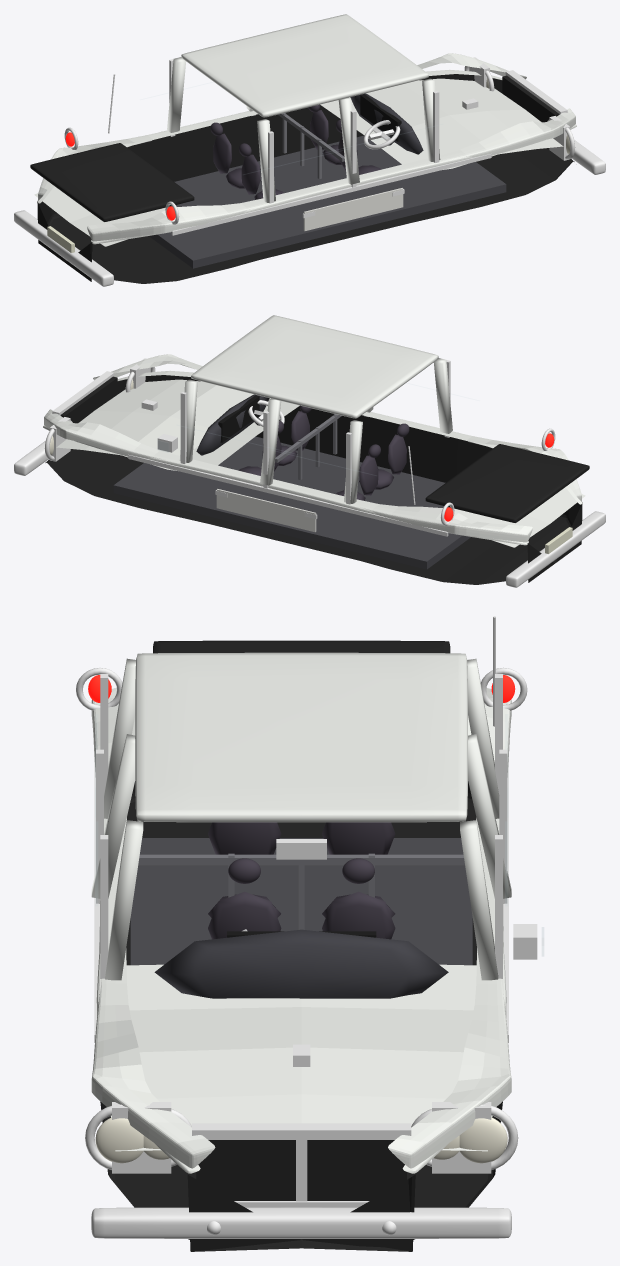
The model's file is PoliceCar_Body.fbx.
3 renders of one model, top to bottom at view 1: azimuth 30°, elevation 25°; view 2: azimuth 150°, elevation 25°; view 3: azimuth 270°, elevation 25°, orthographic. The views are drawn at different scales.
Parts seen in each view (by area): view 1: Body_LowerSlab, FloorPan, Roof, UpperBodyShell, Hood.002, TrunkLid, Badge_Patrol_L, BeltlineStrip_L, TrunkDeck, Bumper_Rear, Grille_Housing, Dashboard (+16 smaller); view 2: Body_LowerSlab, FloorPan, Roof, UpperBodyShell, Hood.002, TrunkLid, Badge_Patrol_R, BeltlineStrip_R, TrunkDeck, Bumper_Rear, Grille_Housing, Dashboard (+15 smaller); view 3: Roof, Hood.002, FloorPan, UpperBodyShell, Dashboard, Body_LowerSlab, Bumper_Front, Grille_Housing, TrunkLid, Grille_TopBar, PoliceCage_H, Pillar_A_L (+21 smaller).
Boxes of the visible parts, box(x1,y1,x2,y2) form: Body_LowerSlab: box(37, 74, 574, 283); FloorPan: box(149, 135, 506, 268); Roof: box(181, 14, 428, 117); UpperBodyShell: box(37, 53, 576, 244); Hood.002: box(320, 78, 563, 169); TrunkLid: box(30, 143, 194, 221); Badge_Patrol_L: box(303, 188, 403, 231); BeltlineStrip_L: box(171, 153, 491, 235); TrunkDeck: box(34, 186, 165, 246); Bumper_Rear: box(14, 210, 113, 286); Grille_Housing: box(502, 75, 559, 122); Dashboard: box(350, 93, 423, 154); Body_LowerSlab: box(45, 375, 582, 584); FloorPan: box(113, 436, 470, 569); Roof: box(191, 315, 438, 418); UpperBodyShell: box(43, 354, 582, 545); Hood.002: box(56, 379, 299, 470); TrunkLid: box(425, 444, 589, 522); Badge_Patrol_R: box(216, 489, 316, 532); BeltlineStrip_R: box(128, 454, 448, 536); TrunkDeck: box(454, 487, 585, 547); Bumper_Rear: box(506, 511, 605, 587); Grille_Housing: box(60, 376, 117, 423); Dashboard: box(196, 394, 269, 455); Roof: box(135, 652, 468, 822); Hood.002: box(110, 964, 492, 1151); FloorPan: box(130, 838, 472, 965); UpperBodyShell: box(91, 688, 511, 1173); Dashboard: box(154, 929, 448, 998); Body_LowerSlab: box(100, 781, 502, 1251); Bumper_Front: box(91, 1207, 511, 1238); Grille_Housing: box(196, 1140, 406, 1200); TrunkLid: box(153, 640, 450, 653); Grille_TopBar: box(192, 1123, 411, 1139); PoliceCage_H: box(138, 854, 464, 865); Pillar_A_L: box(105, 820, 143, 980).
Bounding box in the file's own units: 525 × 142 × 214.
